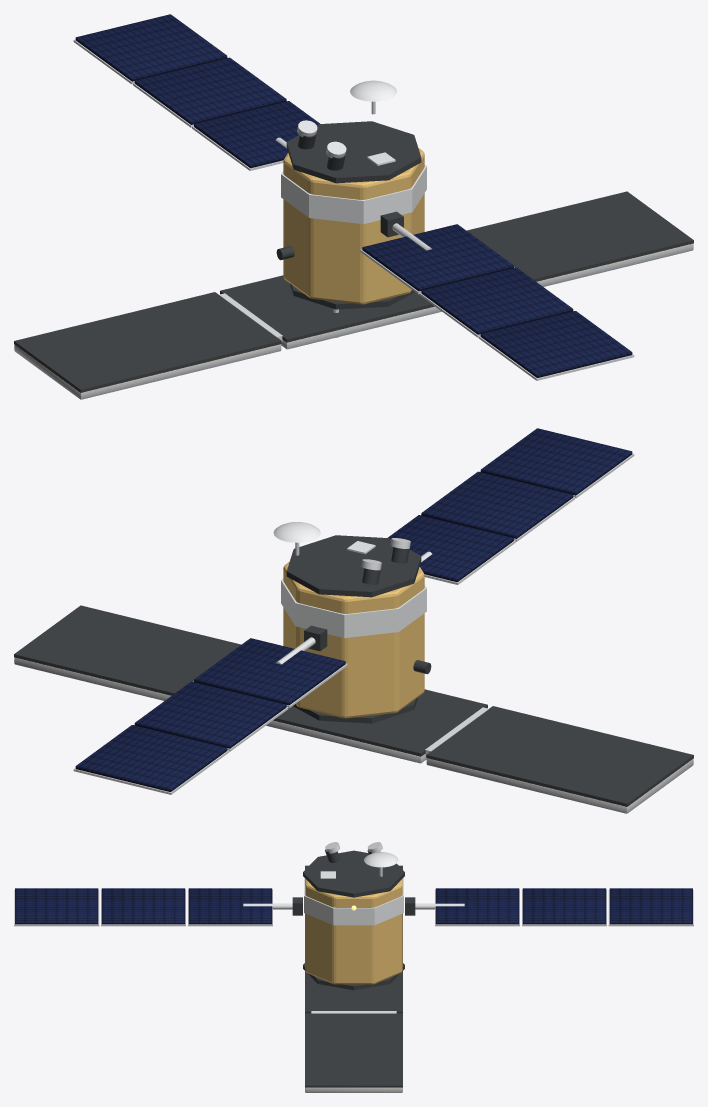
File: satellite.glb
The picture shows the model from 3 angles, top to bottom: view 1: azimuth 30°, elevation 25°; view 2: azimuth 150°, elevation 25°; view 3: azimuth 270°, elevation 25°; orthographic projection. The views are drawn at different scales.
Parts seen in each view (by area): view 1: sar-back-0, bus, sar-back-2, wing--1-2, wing-1-1, wing-1-2, wing--1-1, top-deck, wing--1-0, sar-back-1, wing-1-0, radiator-band (+5 smaller); view 2: sar-back-0, bus, sar-back-2, wing-1-2, wing--1-1, wing--1-2, wing-1-1, top-deck, wing-1-0, sar-back-1, wing--1-0, radiator-band (+5 smaller); view 3: sar-back-2, bus, wing-1-1, wing--1-1, wing-1-2, wing--1-2, wing-1-0, wing--1-0, top-deck, sar-back-1, radiator-band, sar-panel-2 (+2 smaller).
Boxes of the visible parts, x1,y1,x2,y2 form: sar-back-0: (14,292,281,392); bus: (283,148,424,304); sar-back-2: (467,191,693,281); wing--1-2: (480,311,632,377); wing-1-1: (134,57,286,124); wing-1-2: (75,14,227,81); wing--1-1: (421,267,573,334); top-deck: (286,121,421,183); wing--1-0: (362,224,513,291); sar-back-1: (220,275,434,342); wing-1-0: (194,101,319,168); radiator-band: (281,164,426,223); sar-back-0: (426,706,693,806); bus: (283,562,424,718); sar-back-2: (14,605,240,695); wing-1-2: (75,725,227,791); wing--1-1: (421,471,573,538); wing--1-2: (480,428,632,495); wing-1-1: (134,681,286,748); top-deck: (286,535,421,597); wing-1-0: (194,638,345,705); sar-back-1: (273,689,487,756); wing--1-0: (388,515,513,582); radiator-band: (281,578,426,637); sar-back-2: (305,1013,402,1087); bus: (305,879,402,984); wing-1-1: (522,888,606,924); wing--1-1: (101,888,185,924); wing-1-2: (609,888,692,924); wing--1-2: (15,888,98,924); wing-1-0: (435,888,519,924); wing--1-0: (188,888,272,924); top-deck: (303,850,404,897); sar-back-1: (305,940,402,1013); radiator-band: (304,878,403,925); sar-panel-2: (305,1087,402,1092).
Bounding box in the file's own units: 6.1 × 1.97 × 7.98.
Materials: 7 (2 with a texture image).
